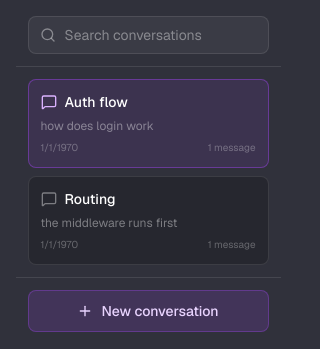
Scenario: ConversationList › explains an empty filter result
Type "kubernetes" into the search field labelled "Search conversations".
click(148, 35); type("kubernetes")  # box [28, 16, 268, 54]
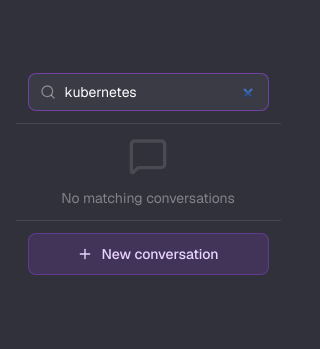
Expected: the text "No matching conversations" is shown, [61, 188, 235, 208]
